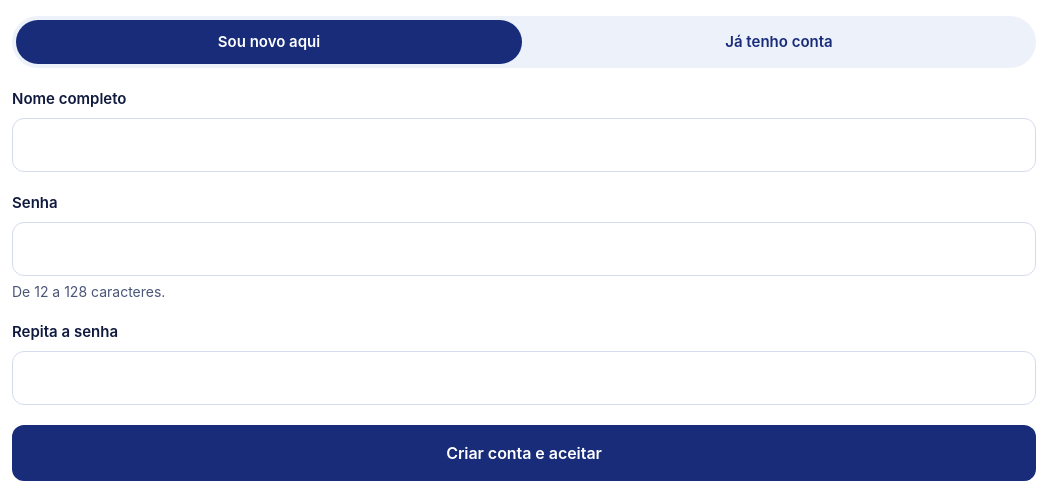
Test case: AcceptInvitationForm: pessoa nova › envia token, nome e senha, mostra o convite aceito e NAO faz login
Step 1. Type "Pessoa Nova" into the field labelled "Nome completo" → (524,145), box x1=12 y1=118 x2=1036 y2=172
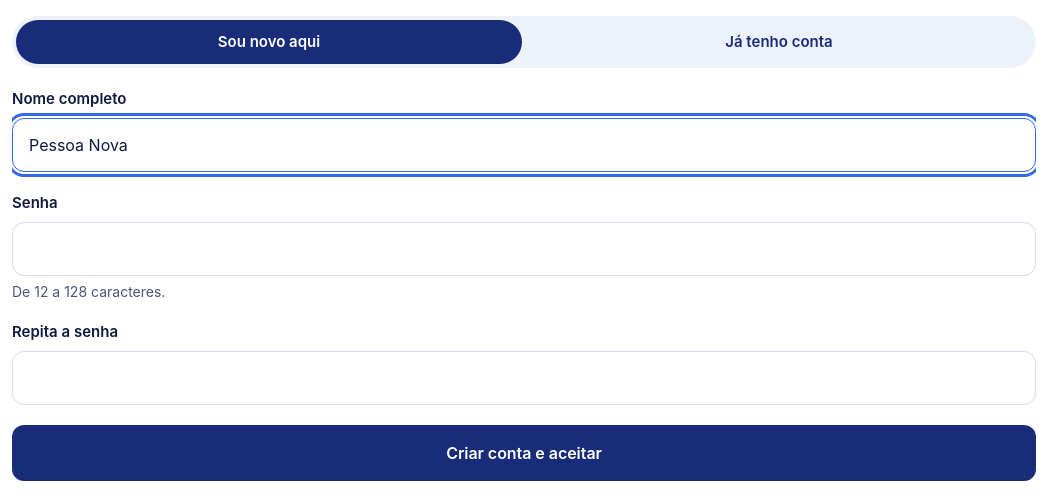
Step 2. Type "uma-senha-bem-longa-1" into the password field labelled "Senha" → (524,248), box x1=12 y1=222 x2=1036 y2=276
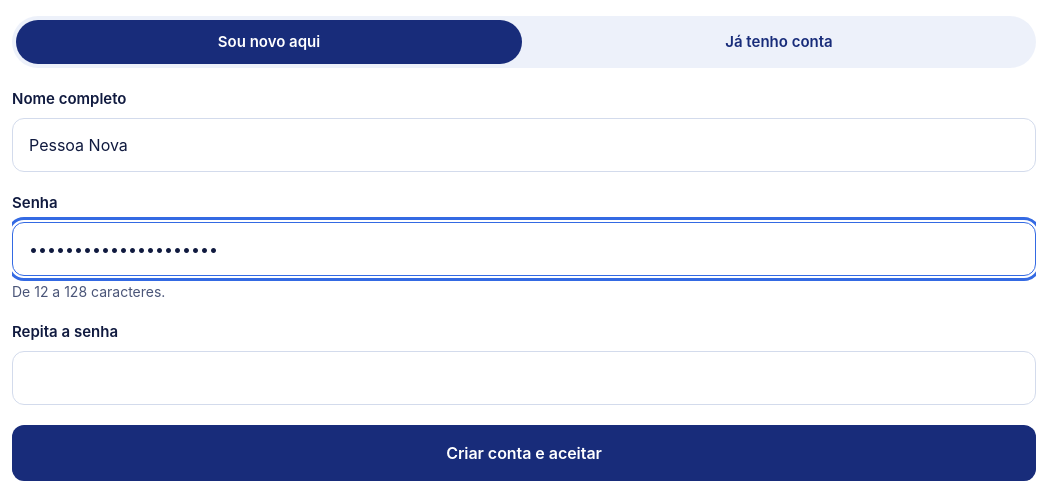
Step 3. Type "uma-senha-bem-longa-1" into the password field labelled "Repita a senha" → (524,378), box x1=12 y1=351 x2=1036 y2=405
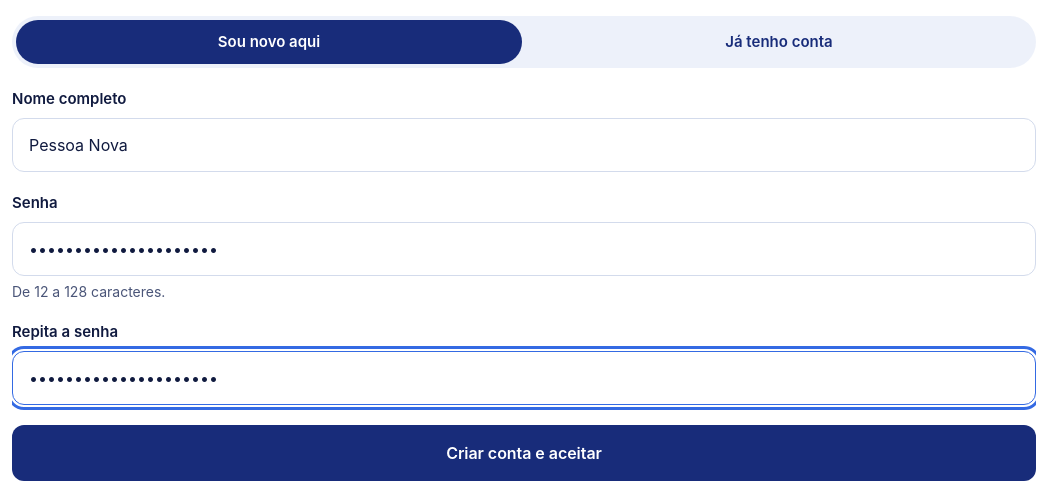
Step 4. Click the button "Criar conta e aceitar" → (524,453), box x1=12 y1=425 x2=1036 y2=481
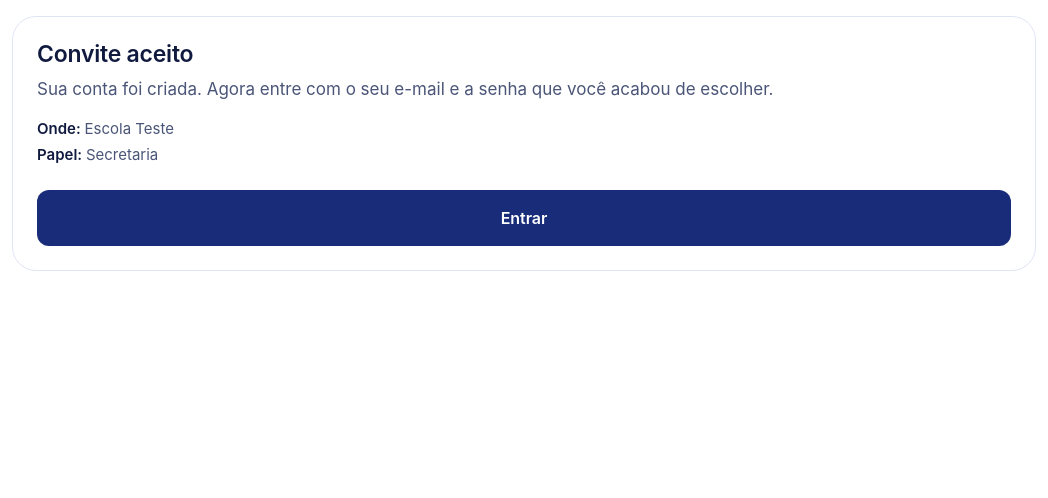
Expected: the message shows "Convite aceito", x1=37 y1=40 x2=193 y2=68
Expected: the message shows "Escola Teste", x1=84 y1=119 x2=174 y2=138
Expected: the message shows "Secretaria", x1=86 y1=145 x2=158 y2=164
